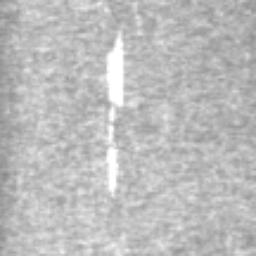White rust: (105, 29, 125, 123), (105, 146, 122, 198), (108, 126, 114, 143)
